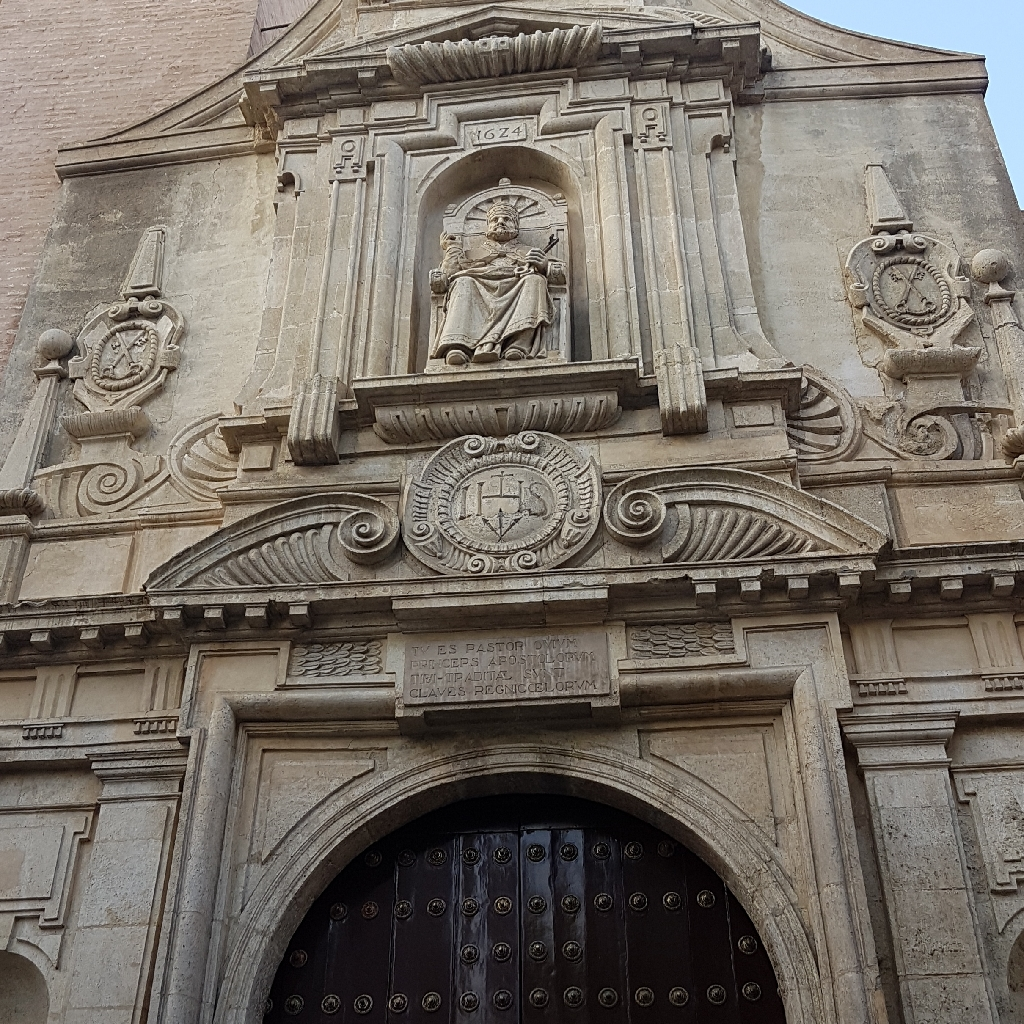arco-medio-punto: (223, 742, 844, 1024), (412, 134, 596, 230)
fronton-partido: (133, 463, 890, 613)
